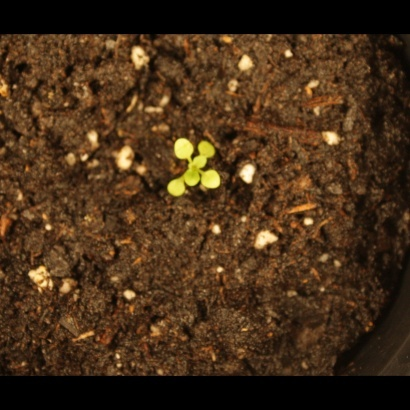leaf: (169, 135, 199, 164), (159, 175, 188, 203), (197, 137, 220, 160), (191, 151, 214, 174), (201, 169, 224, 192), (179, 166, 202, 189)
